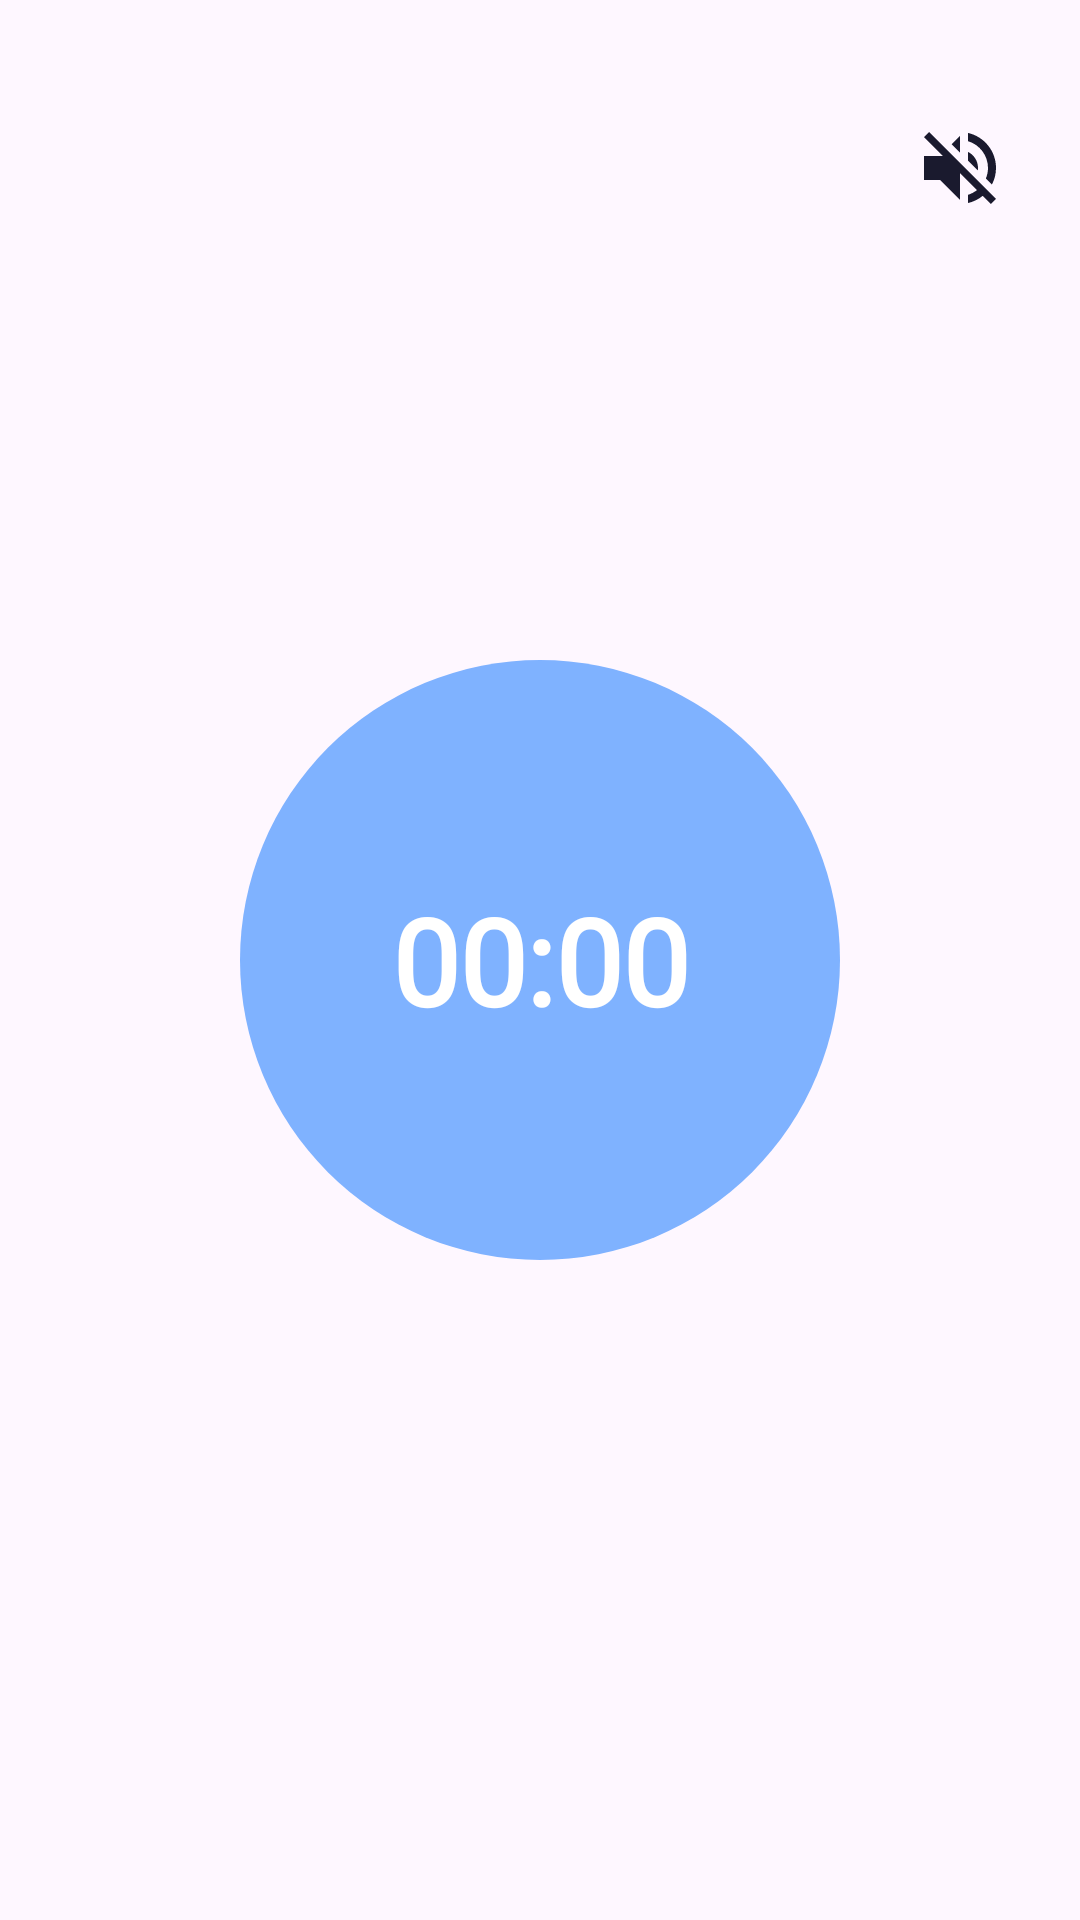

Icon bounding boxes for this 1080*1920 phone screenshot, format Rect(x1, y1, x2, y2):
volume off: Rect(924, 132, 996, 204)
